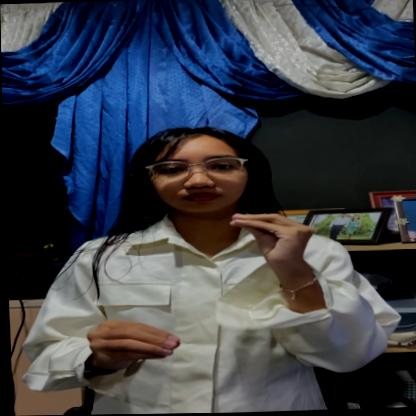Fix: (67, 206, 369, 390)
